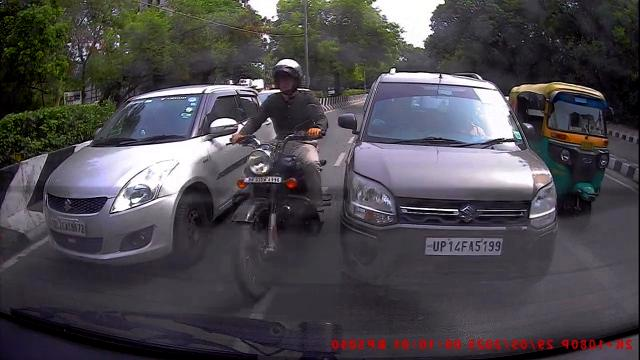motorcycle_with_helmet: (225, 57, 332, 303)
